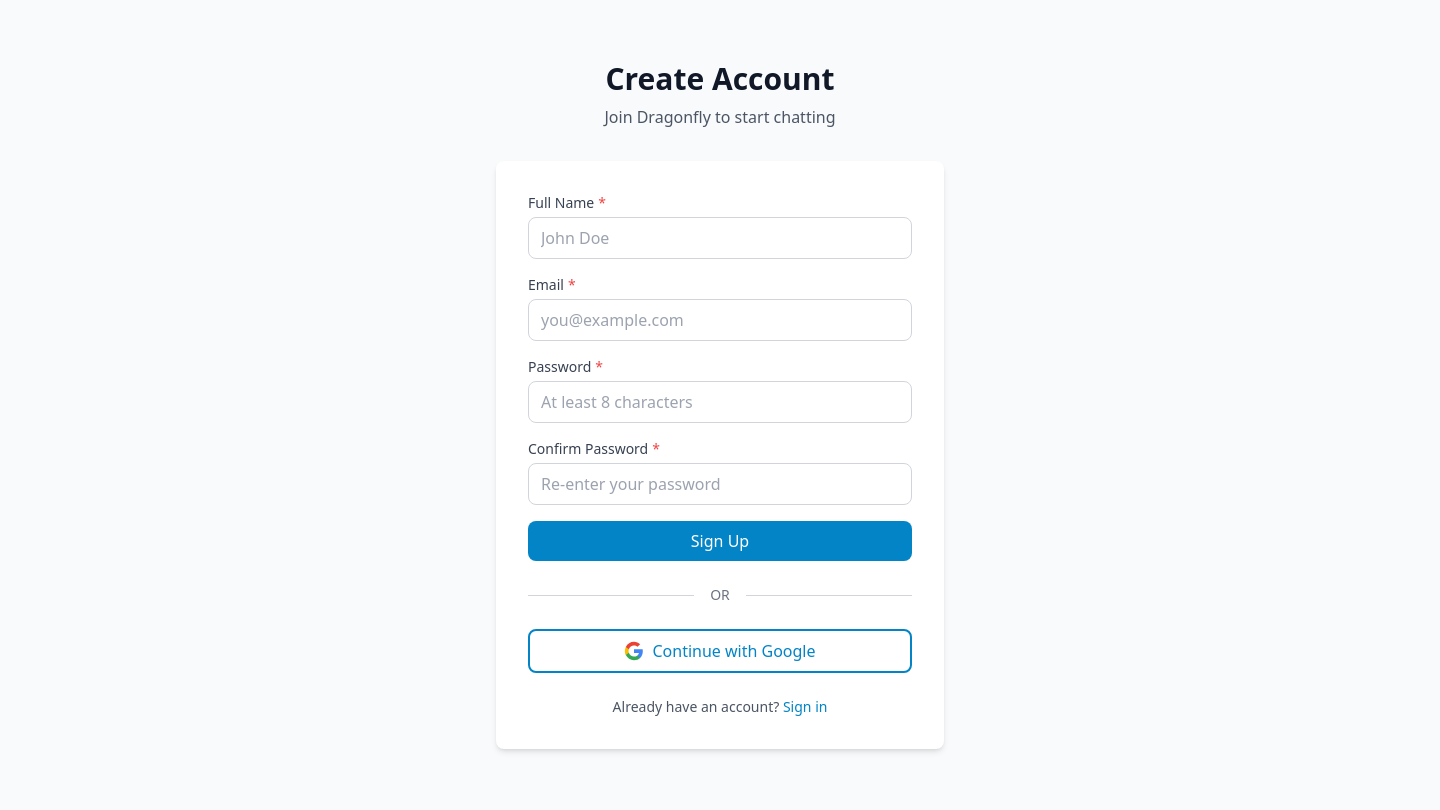
Scenario: SignUp page › submits signup and opens OTP modal
The image size is (1440, 810).
Type "Jane Doe" into the field with placeholder "John Doe".
click(720, 238); type("Jane Doe")  # box [528,217,912,259]
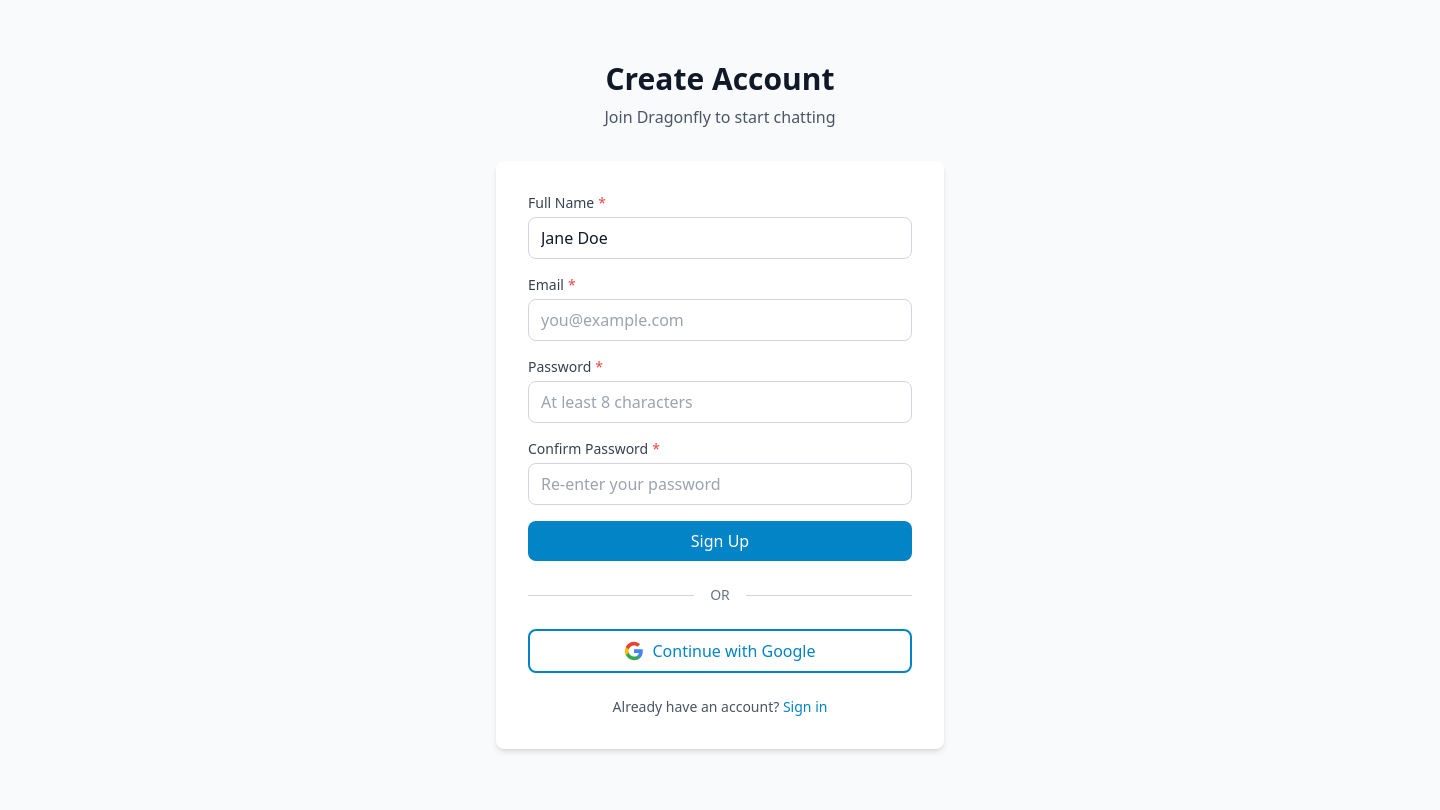
Type "jane@example.com" into the field with placeholder "you@example.com".
click(720, 320); type("jane@example.com")  # box [528,299,912,341]
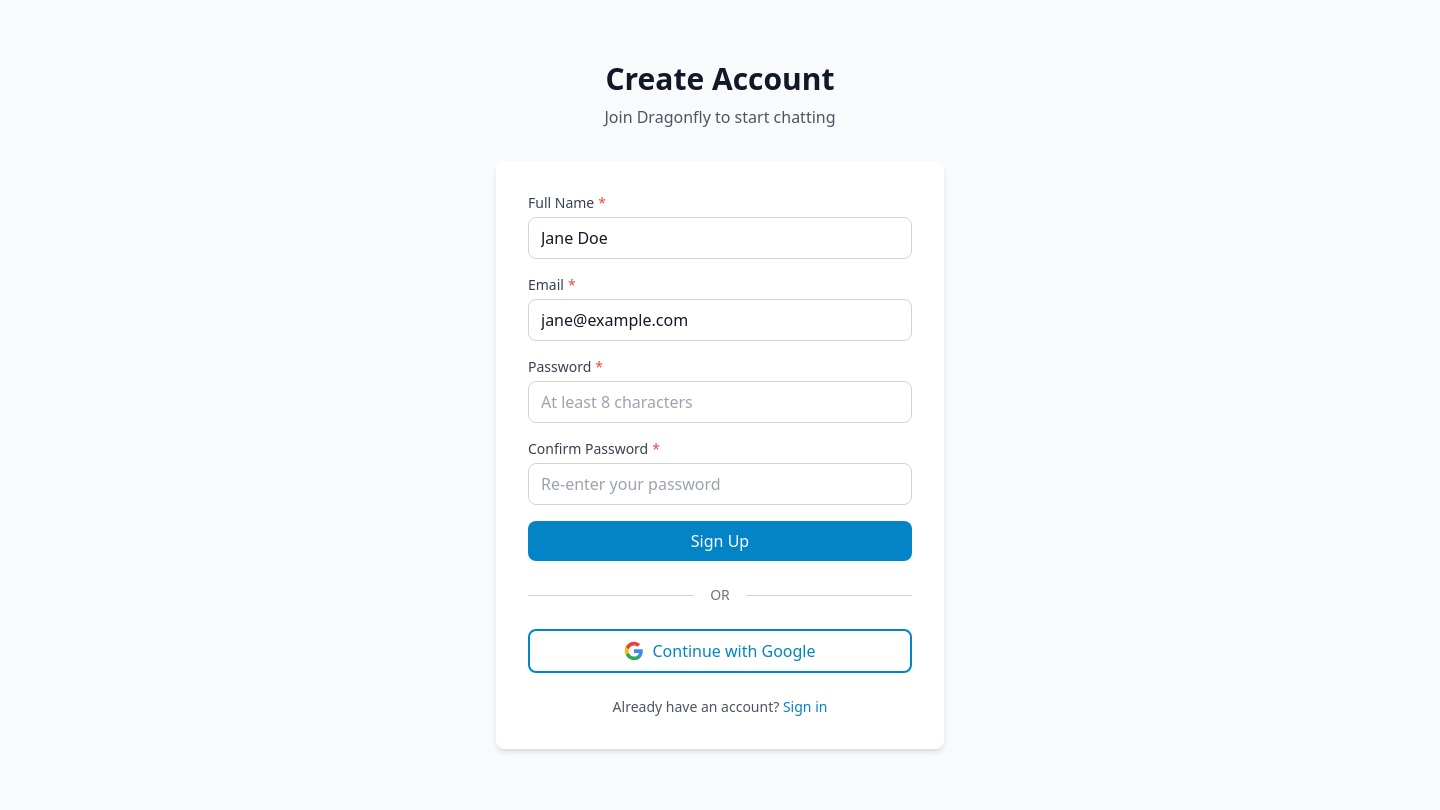
Type "password123" into the password field with placeholder "At least 8 characters".
click(720, 402); type("password123")  # box [528,381,912,423]
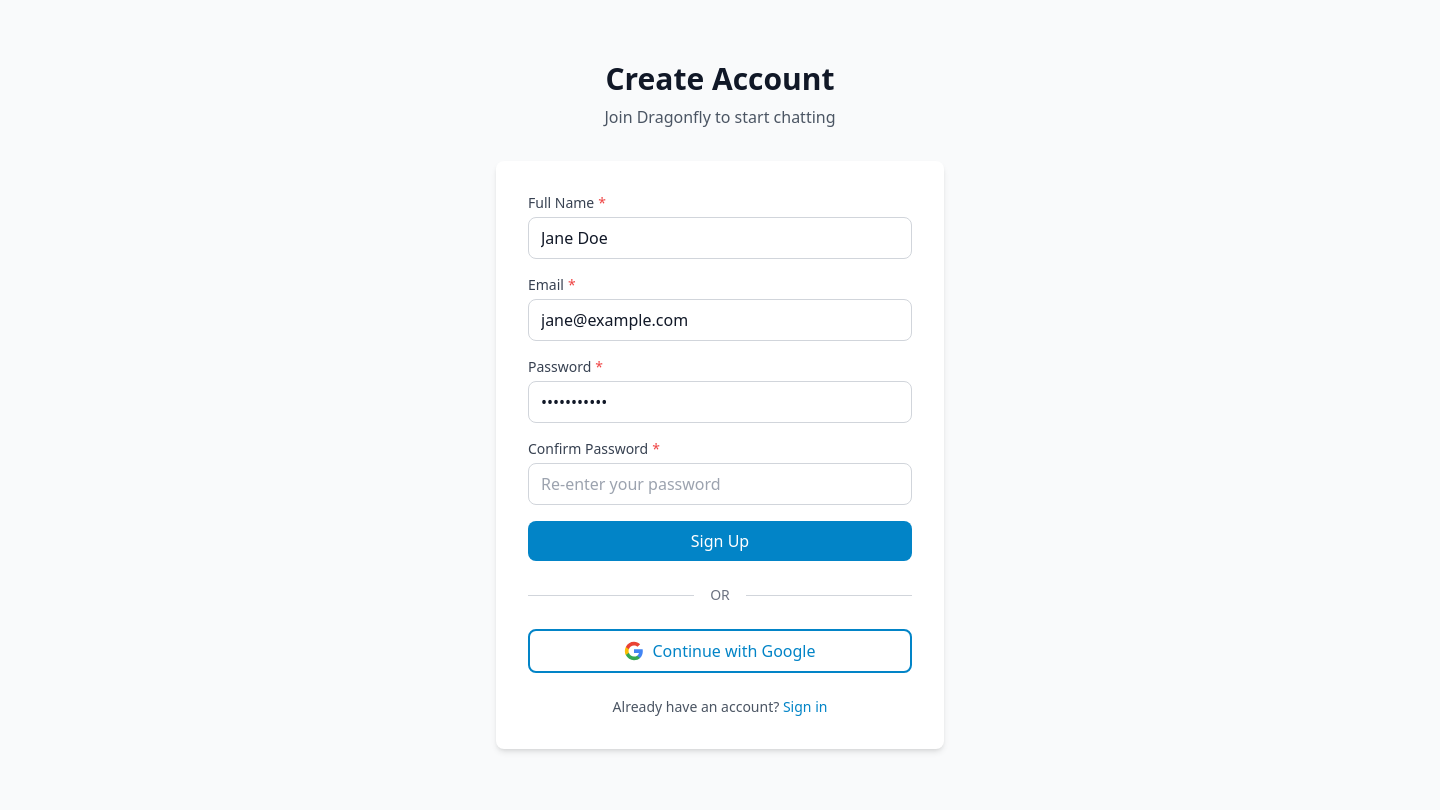
Type "password123" into the password field with placeholder "Re-enter your password".
click(720, 484); type("password123")  # box [528,463,912,505]
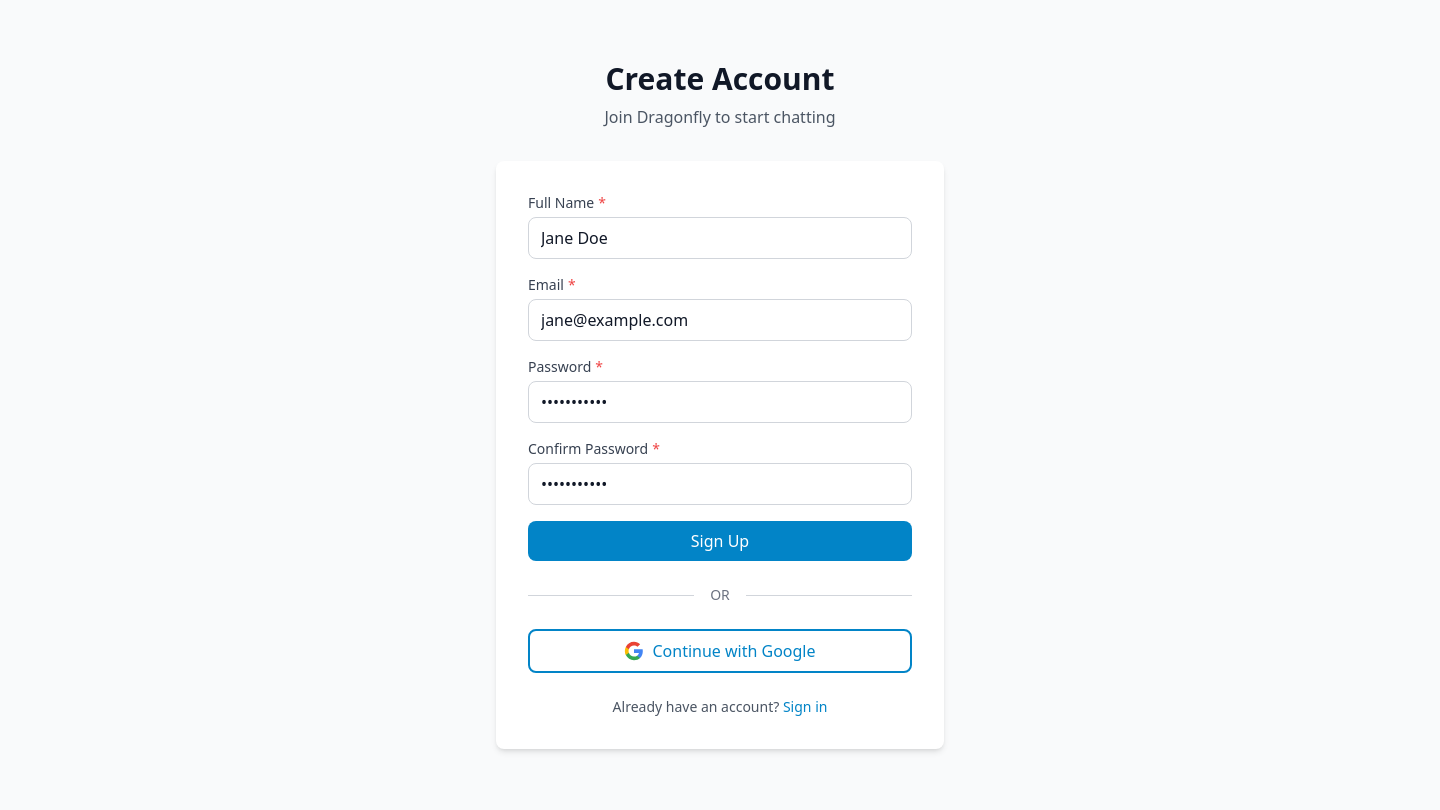
Click the button "Sign Up".
click(720, 541)  # box [528,521,912,561]
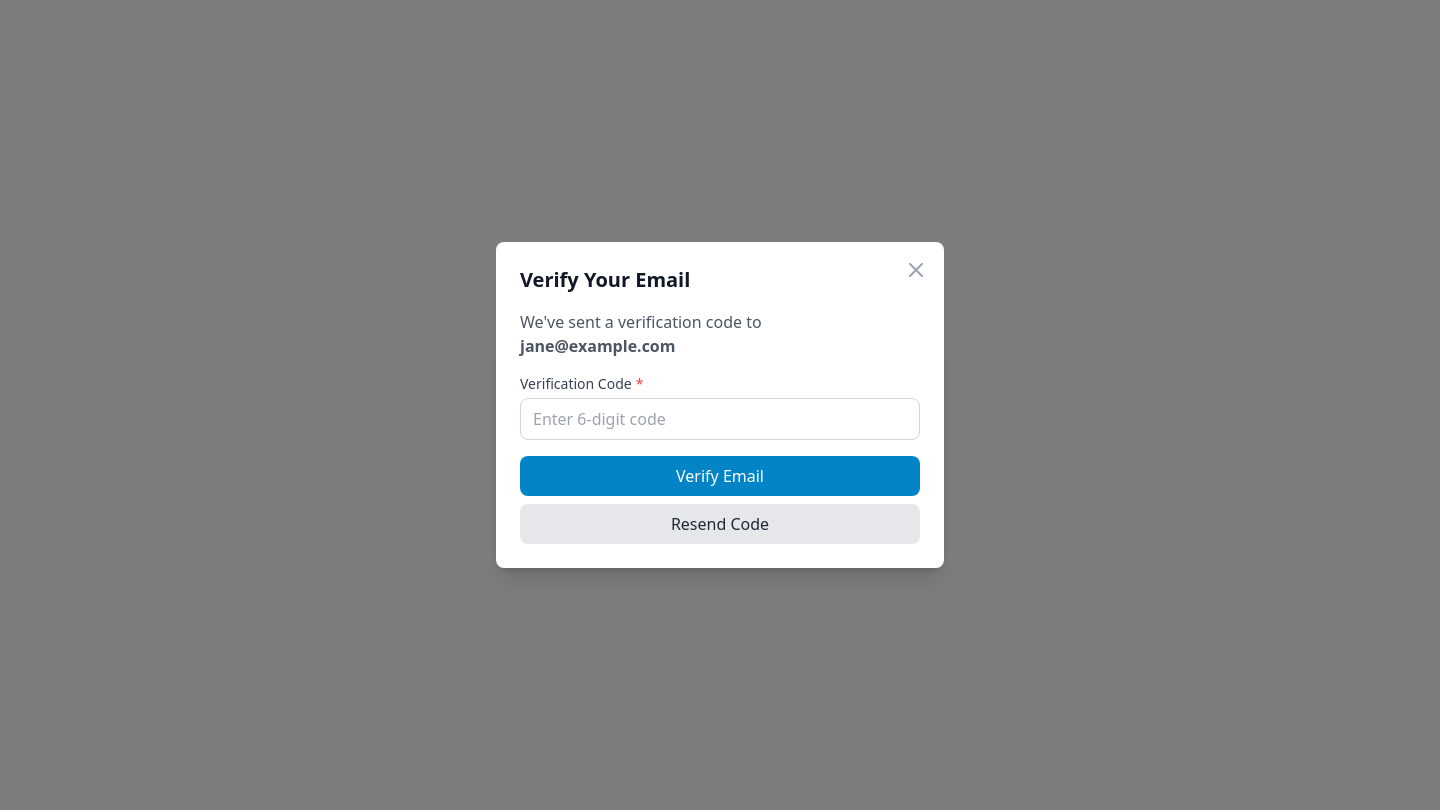
Now the heading "Verify Your Email" is shown, box [520,266,690,293]
